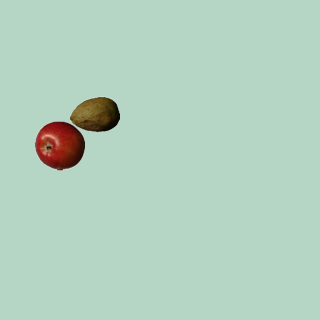Apple Braeburn: (34, 120, 84, 170)
Papaya: (69, 89, 119, 139)
